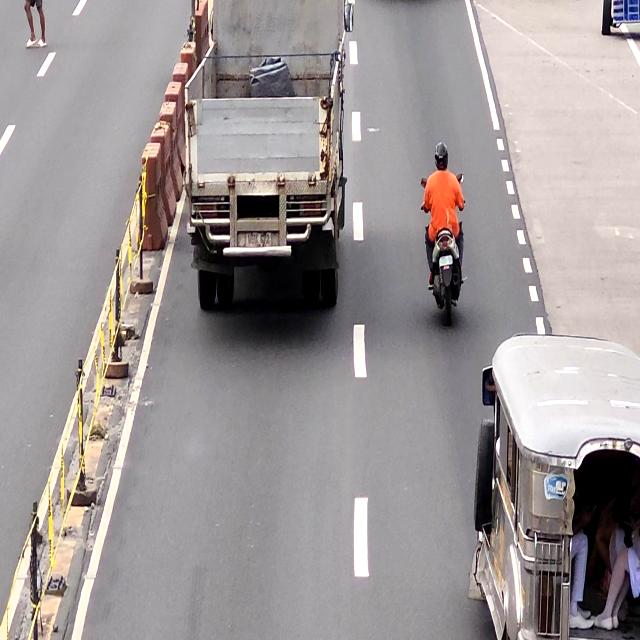Jeep: (469, 333, 640, 640)
License-Plate: (243, 233, 272, 249), (438, 254, 453, 266)
Motorcycle: (423, 174, 466, 330)
Truck: (184, 0, 353, 312)
